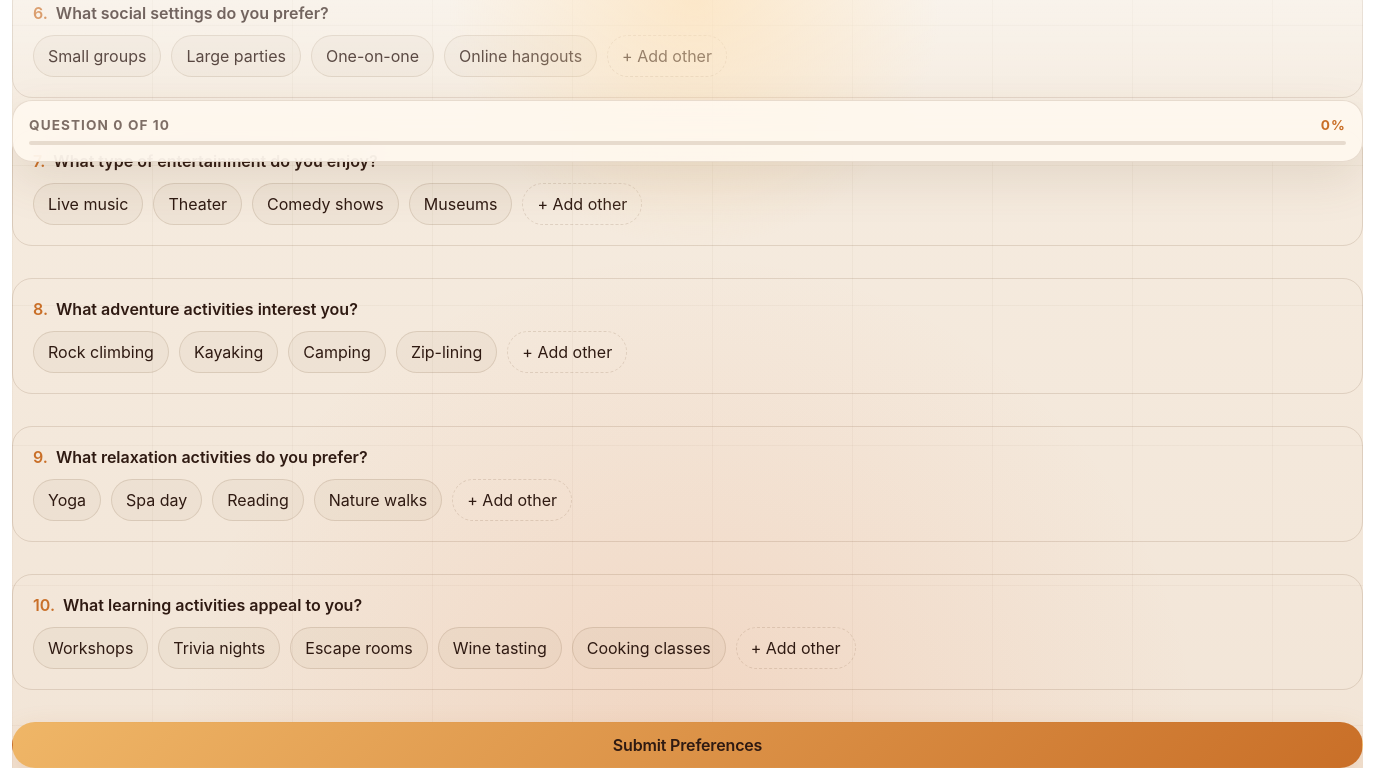
Test case: TasteBenchmarkForm › shows validation errors for unanswered questions on submit
This screenshot has width=1378, height=768.
(page scrolled)
Click the button "Submit Preferences": coordinates (688, 745) [12,722,1363,767]
(page scrolled)
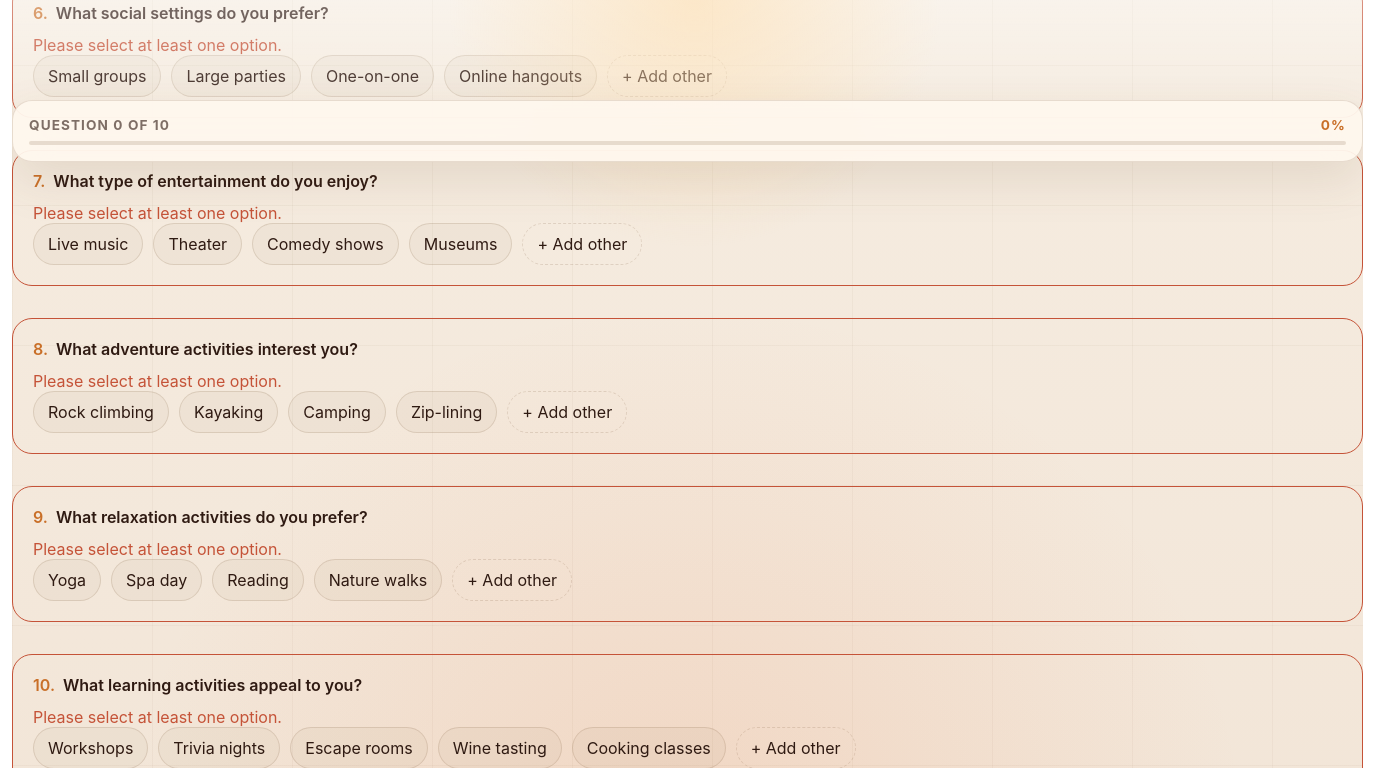
expect the text "please select at least one option" is shown 10 times: met
